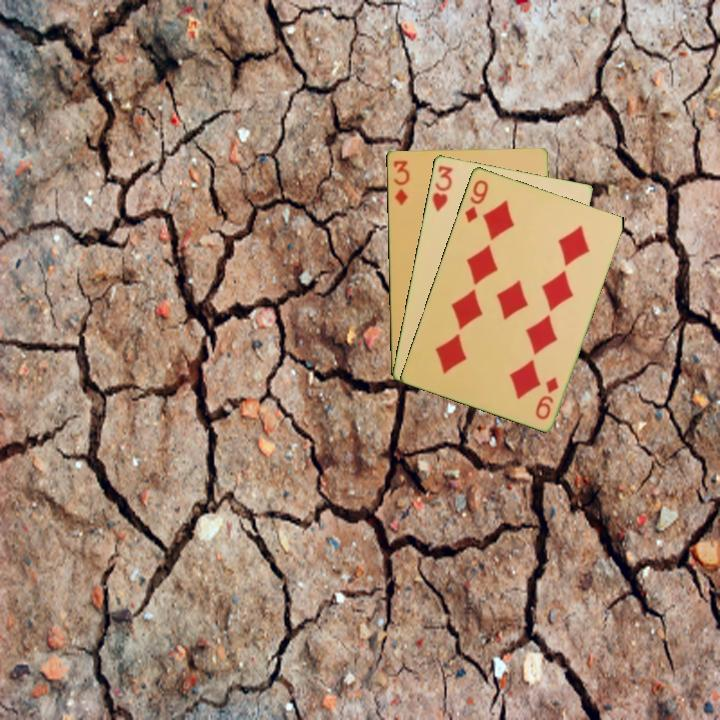3d: (389, 157, 412, 208)
3h: (428, 161, 455, 214)
9d: (461, 176, 491, 226), (532, 373, 561, 422)
